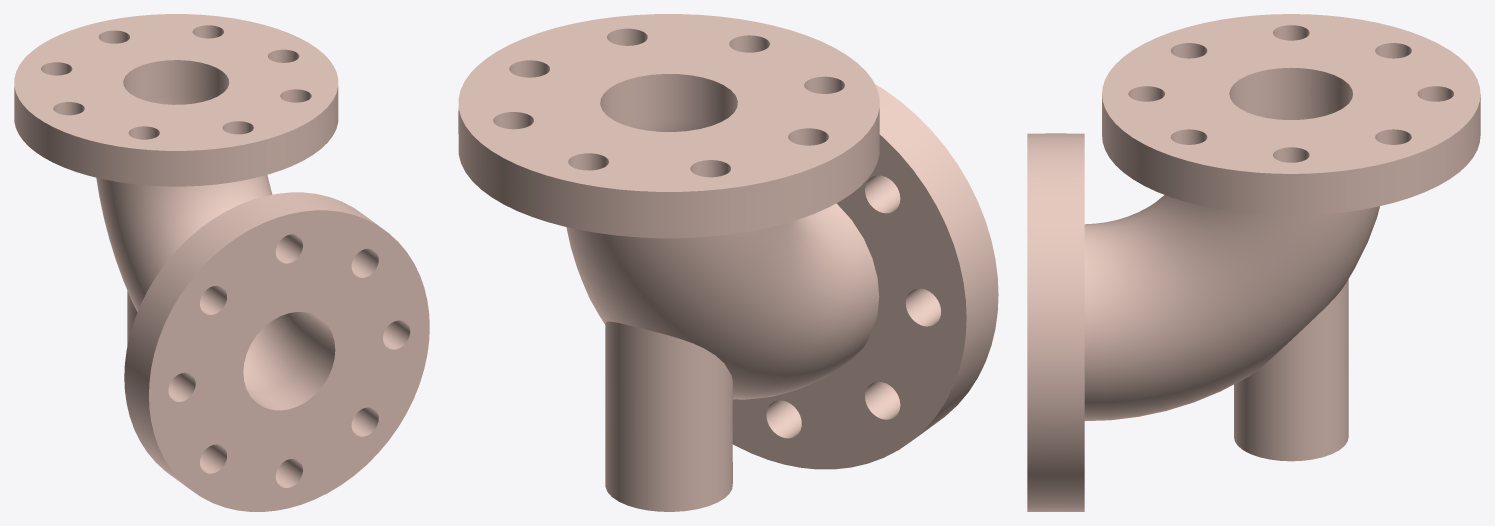
File: Part Modeling 3.fbx
The picture shows the model from 3 angles, left to right: view 1: azimuth 30°, elevation 25°; view 2: azimuth 150°, elevation 25°; view 3: azimuth 270°, elevation 25°; orthographic projection. The views are drawn at different scales.
Parts seen in each view (by area): view 1: Body1; view 2: Body1; view 3: Body1.
Part boxes in pixels (x1,y1,x2,y2): Body1: [14, 14, 429, 511]; Body1: [458, 14, 998, 511]; Body1: [1027, 14, 1480, 511].
Size of the model in its own units: 165 by 192 by 198.
